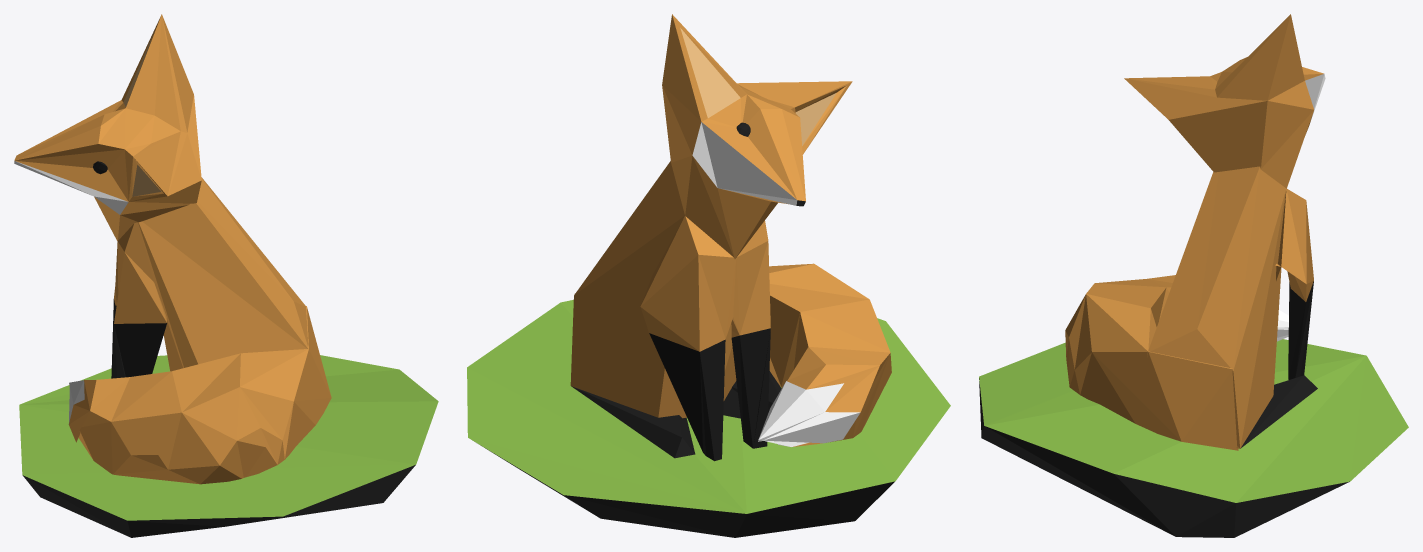
Rendered from Fox.obj.
3 views of the same model, side by side, from view 1: azimuth 30°, elevation 25°; view 2: azimuth 150°, elevation 25°; view 3: azimuth 270°, elevation 25° (orthographic). The views are drawn at different scales.
Parts seen in each view (by area): view 1: mesh2117380445; view 2: mesh2117380445; view 3: mesh2117380445.
Part boxes in pixels (bbox=[...]): mesh2117380445: bbox=[14, 14, 438, 537]; mesh2117380445: bbox=[467, 14, 950, 537]; mesh2117380445: bbox=[979, 14, 1408, 537].
Size of the model in its own units: 1.27 by 1.38 by 1.24.
